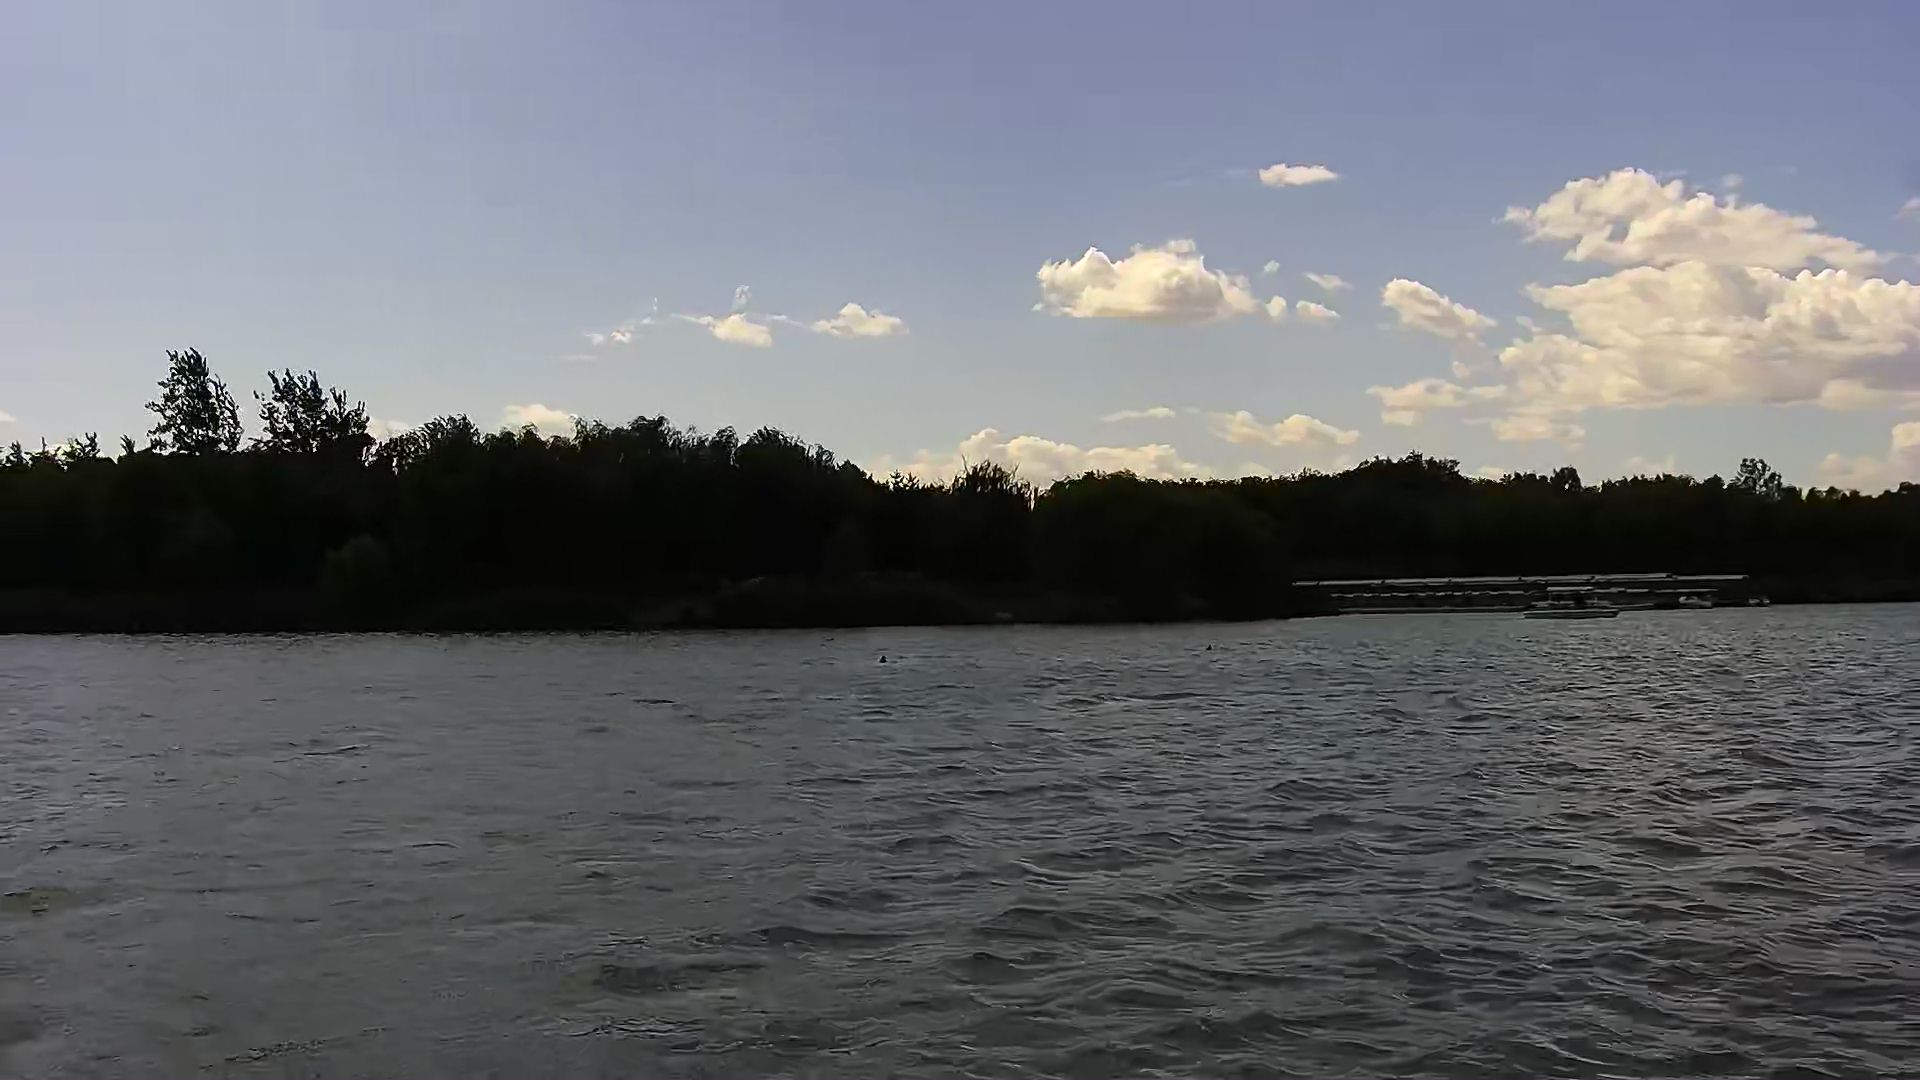boat: (1526, 582, 1629, 626)
harbor: (1283, 568, 1763, 616)
